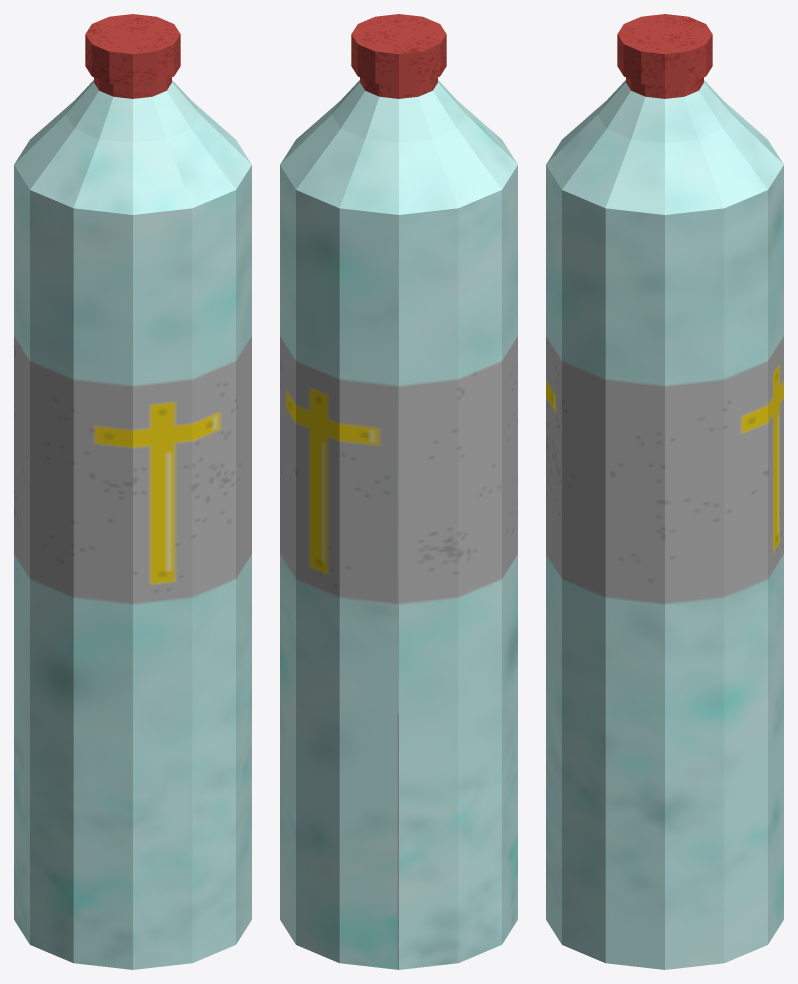
The model's file is holy_water.glb.
3 views of the same model, side by side, from view 1: azimuth 30°, elevation 25°; view 2: azimuth 150°, elevation 25°; view 3: azimuth 270°, elevation 25° (orthographic).
Parts seen in each view (by area): view 1: Cylinder; view 2: Cylinder; view 3: Cylinder.
Part boxes in pixels (bbox=[...]): Cylinder: bbox=[14, 14, 251, 969]; Cylinder: bbox=[280, 14, 517, 969]; Cylinder: bbox=[546, 14, 783, 969].
Bounding box in the file's own units: 0.1 × 0.4106 × 0.1.
1 material, 1 textured.
